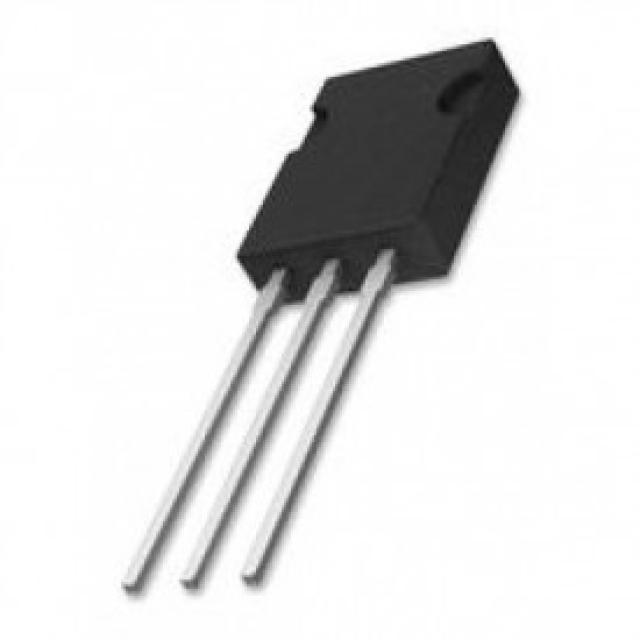Transistor: (120, 42, 513, 593)
